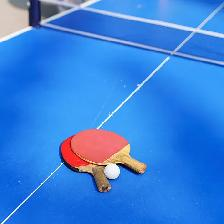WhiteBall: (103, 163, 120, 179)
